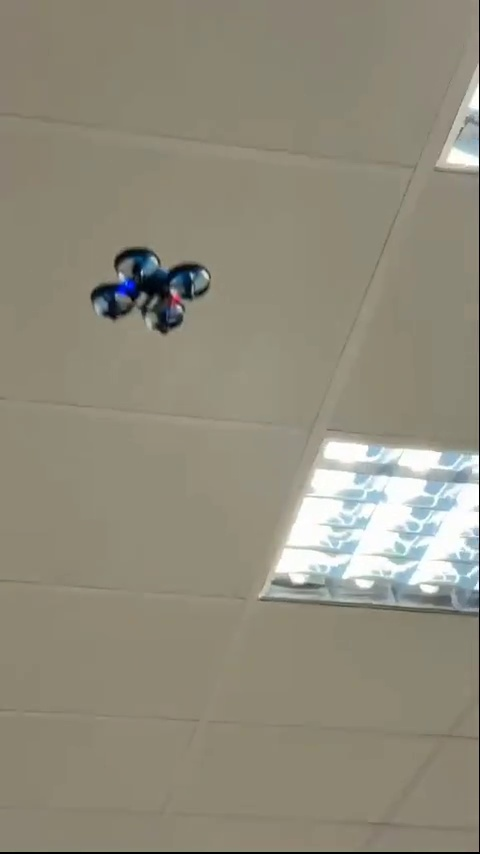drone: (87, 243, 212, 343)
